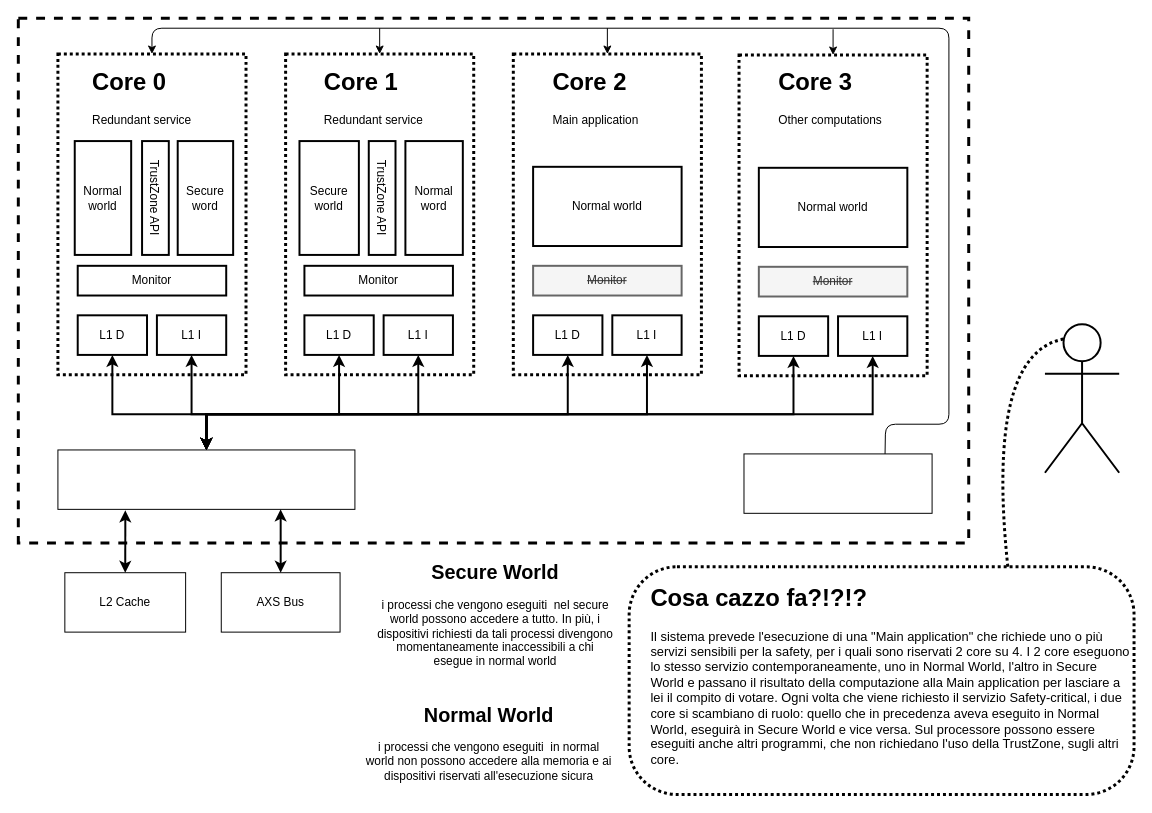
This 1152x813 diagram has some shape labels left out. Each missing label, with the box of its shape:
Interrupt controller + Distributor: (743, 453, 932, 513)
Simone lo scemo: (1043, 323, 1120, 473)
Snoop Control Unit (access to memory): (57, 449, 355, 509)
